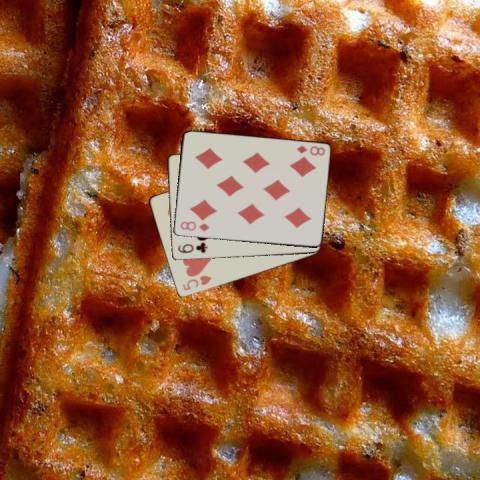5h: (180, 273, 214, 292)
6c: (175, 241, 208, 254)
8d: (177, 218, 211, 232), (293, 143, 326, 157)
